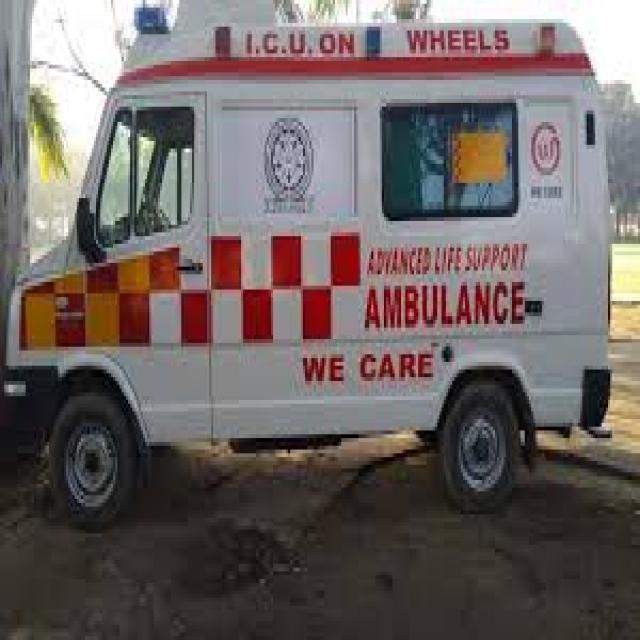ambulance: (5, 0, 613, 513)
